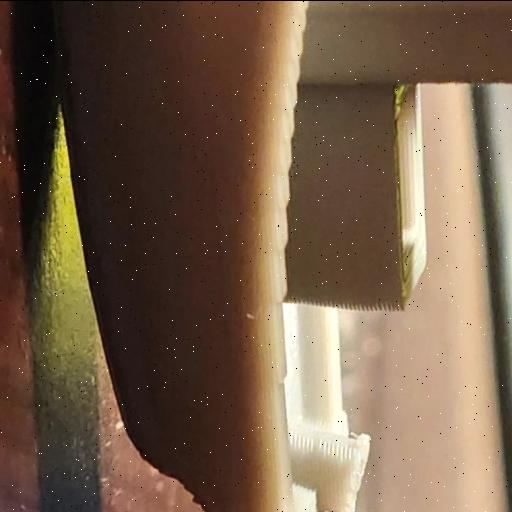cracks: (29, 83, 148, 477)
